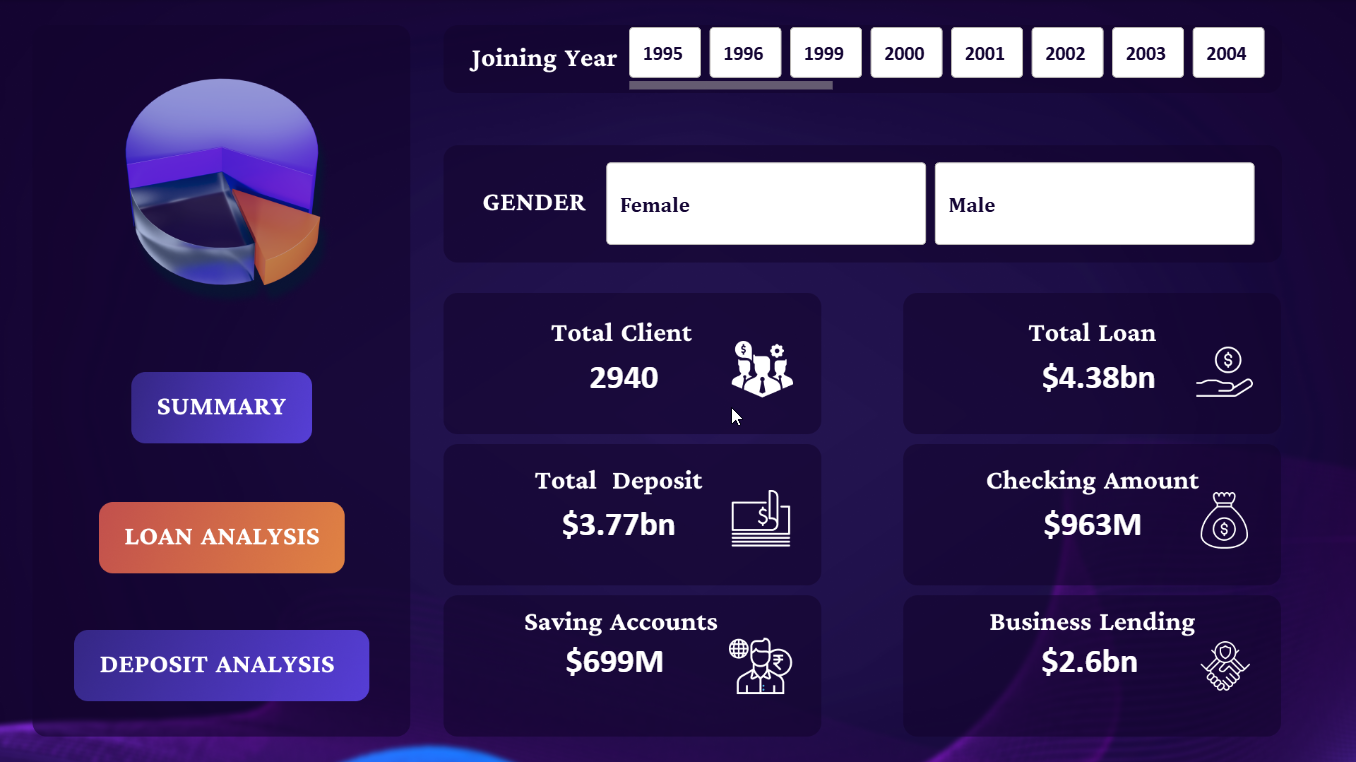

This screenshot's page, from the dashboard's own definition file:
{"tool":"powerbi","page":{"name":"Home","canvas":[1280,720],"ordinal":0},"visuals":[{"type":"card","fields":{"Values":["Count(Clients - Banking.Client ID)"]},"box":[508,326.3,161.8,57.9],"z":0},{"type":"card","fields":{"Values":["Clients - Banking.Total loan"]},"box":[956.4,326.3,161.8,57.9],"z":1000},{"type":"card","fields":{"Values":["Clients - Banking.Total Deposit"]},"box":[502.7,465.6,161.8,57.9],"z":2000},{"type":"card","fields":{"Values":["Sum(Clients - Banking.Checking Accounts)"]},"box":[951,465.6,161.8,57.9],"z":3000},{"type":"card","fields":{"Values":["Sum(Clients - Banking.Saving Accounts)"]},"box":[499.1,594.9,161.8,57.9],"z":4000},{"type":"card","fields":{"Values":["Sum(Clients - Banking.Business Lending)"]},"box":[947.5,594.9,161.8,57.9],"z":5000},{"type":"advancedSlicerVisual","fields":{"Values":["Clients - Banking.GenderId"]},"box":[567.7,149.2,623.7,88.6],"z":6000},{"type":"advancedSlicerVisual","fields":{"Values":["Clients - Banking.Year"]},"box":[589.4,26.2,614.7,61.5],"z":7000},{"type":"actionButton","box":[96.5,472.8,226.4,69.7],"z":8000},{"type":"actionButton","box":[126.5,348.3,166.1,74.6],"z":9000},{"type":"actionButton","box":[70.9,595.2,277.4,70],"z":10000}]}

Visuals, with their boxes in screenshot pixels (x1, y1, x2, y2), scaled from the page's 1280x720 canvas onto the 1356x762 screenshot:
card - Count(Clients - Banking.Client ID): pyautogui.locateOnScreen(538, 345, 710, 407)
card - Clients - Banking.Total loan: pyautogui.locateOnScreen(1013, 345, 1185, 407)
card - Clients - Banking.Total Deposit: pyautogui.locateOnScreen(533, 493, 704, 554)
card - Sum(Clients - Banking.Checking Accounts): pyautogui.locateOnScreen(1007, 493, 1179, 554)
card - Sum(Clients - Banking.Saving Accounts): pyautogui.locateOnScreen(529, 630, 700, 691)
card - Sum(Clients - Banking.Business Lending): pyautogui.locateOnScreen(1004, 630, 1175, 691)
advancedSlicerVisual - Clients - Banking.GenderId: pyautogui.locateOnScreen(601, 158, 1262, 252)
advancedSlicerVisual - Clients - Banking.Year: pyautogui.locateOnScreen(624, 28, 1276, 93)
actionButton: pyautogui.locateOnScreen(102, 500, 342, 574)
actionButton: pyautogui.locateOnScreen(134, 369, 310, 448)
actionButton: pyautogui.locateOnScreen(75, 630, 369, 704)
